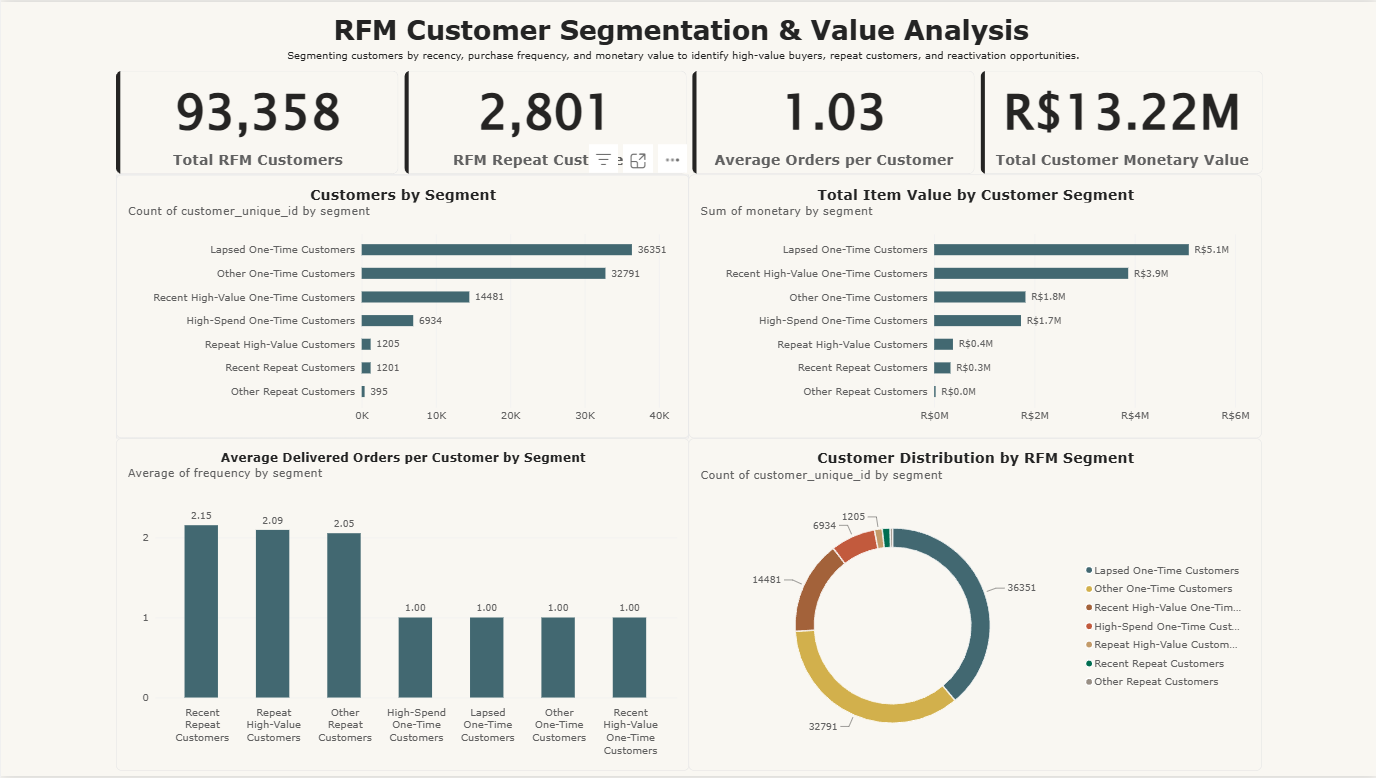

The page's visual inventory and layout, read from the dashboard file:
{"tool":"powerbi","page":{"name":"RFM Customer Segmentation","canvas":[1920,1080],"ordinal":2},"visuals":[{"type":"textbox","box":[464,16,992,48],"z":0},{"type":"textbox","box":[400,64,1120,32],"z":1000},{"type":"cardVisual","fields":{"Data":["rfm_customer_segments.Total RFM Customers","rfm_customer_segments.RFM Repeat Customers","rfm_customer_segments.Average Orders per Customer","rfm_customer_segments.Total Customer Monetary Value"]},"box":[160,96,1600,144],"z":2000},{"type":"clusteredBarChart","title":"Customers by Segment","fields":{"Category":["rfm_customer_segments.segment"],"Y":["Count(rfm_customer_segments.customer_unique_id)"]},"box":[160,240,800,368],"z":3000},{"type":"clusteredBarChart","title":"Total Item Value by Customer Segment","fields":{"Category":["rfm_customer_segments.segment"],"Y":["Sum(rfm_customer_segments.monetary)"]},"box":[960,240,800,368],"z":4000},{"type":"clusteredColumnChart","title":"Average Delivered Orders per Customer by Segment","fields":{"Category":["rfm_customer_segments.segment"],"Y":["Avg(rfm_customer_segments.frequency)"]},"box":[160,608,800,464],"z":5000},{"type":"donutChart","title":"Customer Distribution by RFM Segment","fields":{"Category":["rfm_customer_segments.segment"],"Y":["Count(rfm_customer_segments.customer_unique_id)"]},"box":[960,608,800,464],"z":6000}]}

Visuals, with their boxes in screenshot pixels (x1, y1, x2, y2), scaled from the page's 1920x1080 canvas onto the 1376x778 screenshot:
textbox: left=333, top=12, right=1043, bottom=46
textbox: left=287, top=46, right=1089, bottom=69
cardVisual - rfm_customer_segments.Total RFM Customers x rfm_customer_segments.RFM Repeat Customers: left=115, top=69, right=1261, bottom=173
"Customers by Segment" clusteredBarChart: left=115, top=173, right=688, bottom=438
"Total Item Value by Customer Segment" clusteredBarChart: left=688, top=173, right=1261, bottom=438
"Average Delivered Orders per Customer by Segment" clusteredColumnChart: left=115, top=438, right=688, bottom=772
"Customer Distribution by RFM Segment" donutChart: left=688, top=438, right=1261, bottom=772
